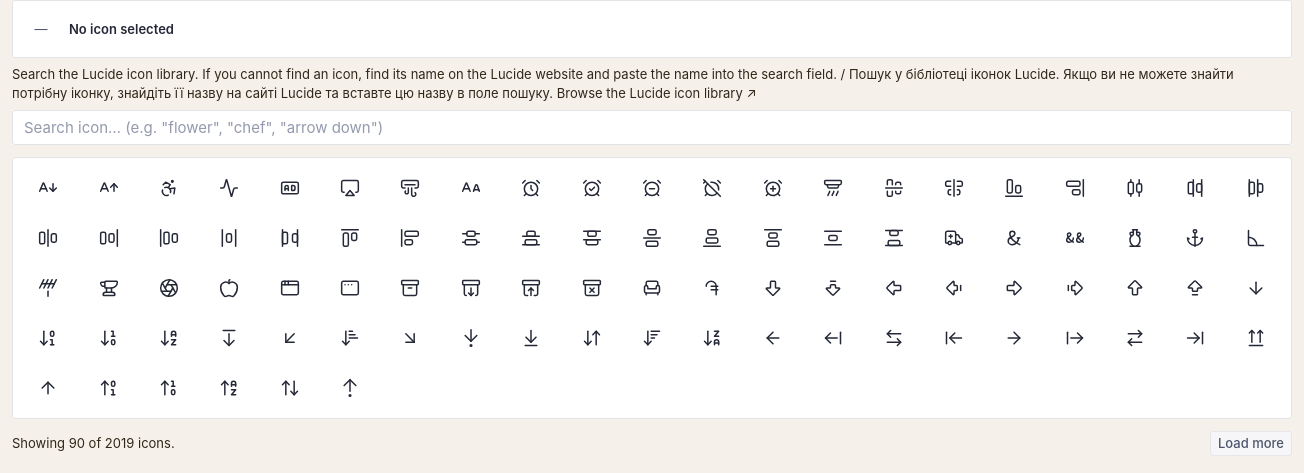
IconPickerInput — search › shows "No icons found" for a query matching nothing
Type "zzzznotarealiconnamezzzz" into the field with placeholder "Search icon… (e.g. \"flower\", \"chef\", \"arrow down\")" at coordinates (652, 128), box [12, 110, 1292, 145]
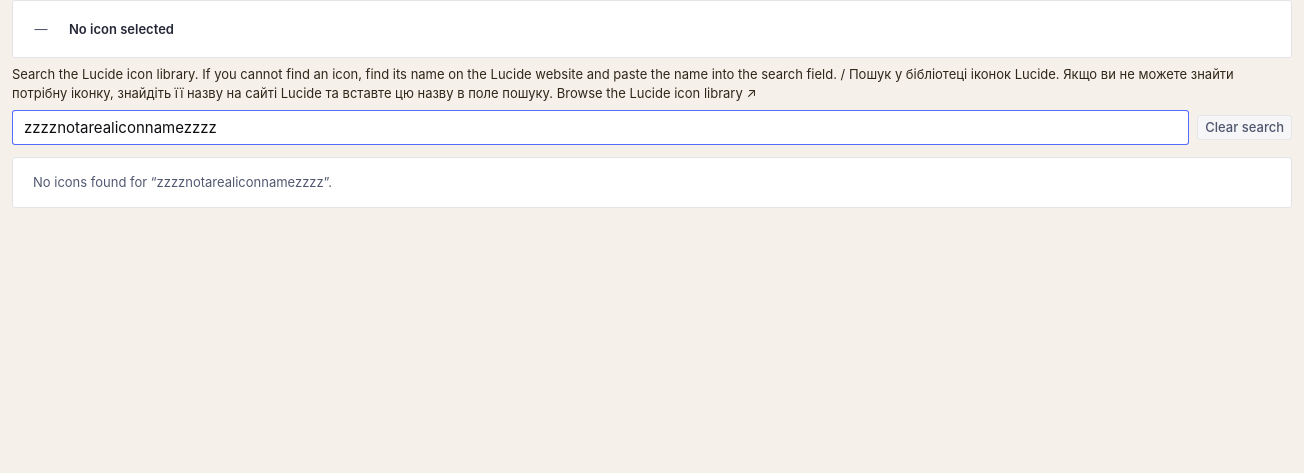
Expected: the text "No icons found for “zzzznotarealiconnamezzzz”." is shown, [33, 174, 332, 190]
